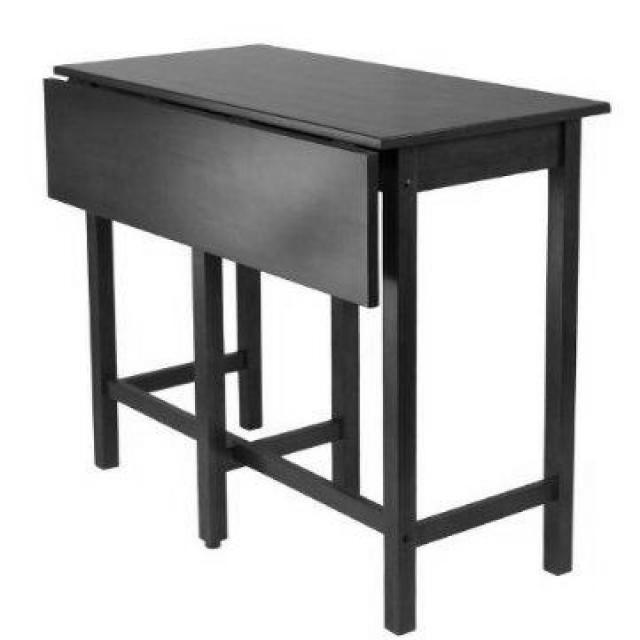table: (41, 40, 610, 632)
